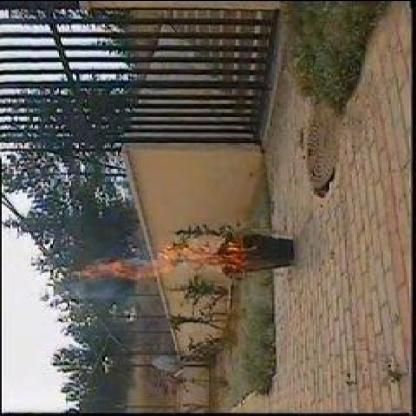-: (73, 281, 130, 303)
foggia-v2-map80-epoch100 - v1 4323: (94, 237, 242, 273)
